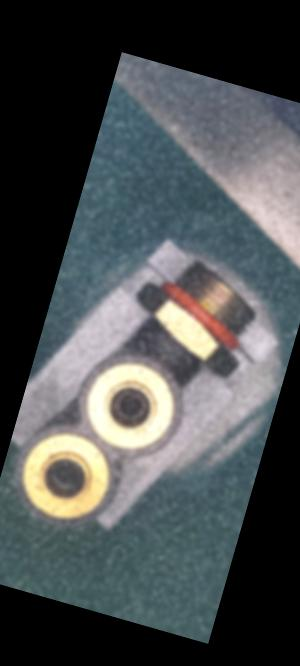joint line: (174, 346, 188, 365)
